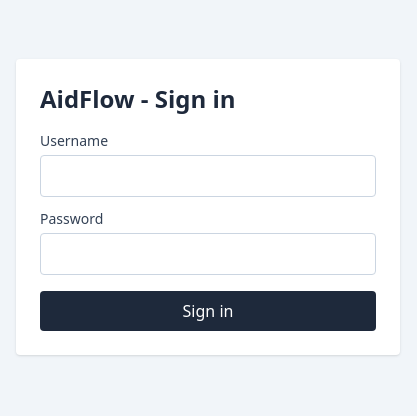
Scenario: login › does not keep the token if /auth/me fails right after login
This screenshot has width=417, height=416.
Type "alice" into the field labelled "Username". click: coordinates (208, 176)
box: [40,155,376,197]
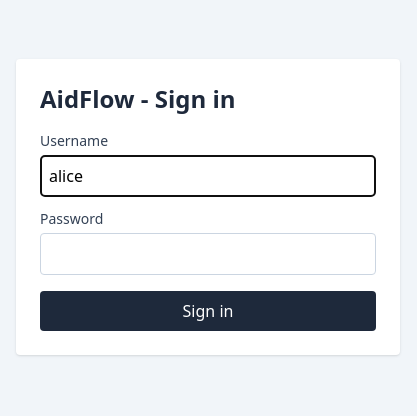
Type "correct-horse-battery" into the password field labelled "Password". click: coordinates (208, 254)
box: [40,233,376,275]
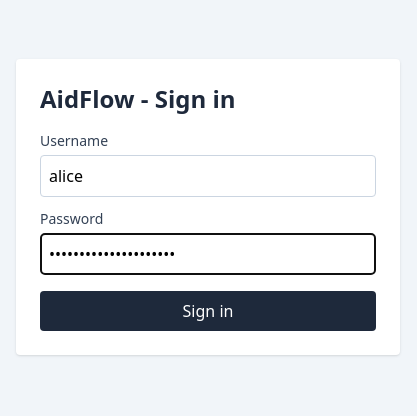
Click the button "Sign in". click: coordinates (208, 311)
box: [40,291,376,331]
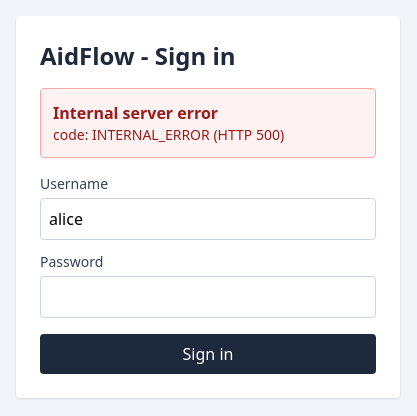
Check: the message shows "Internal server error", box [53,102,218,124]
